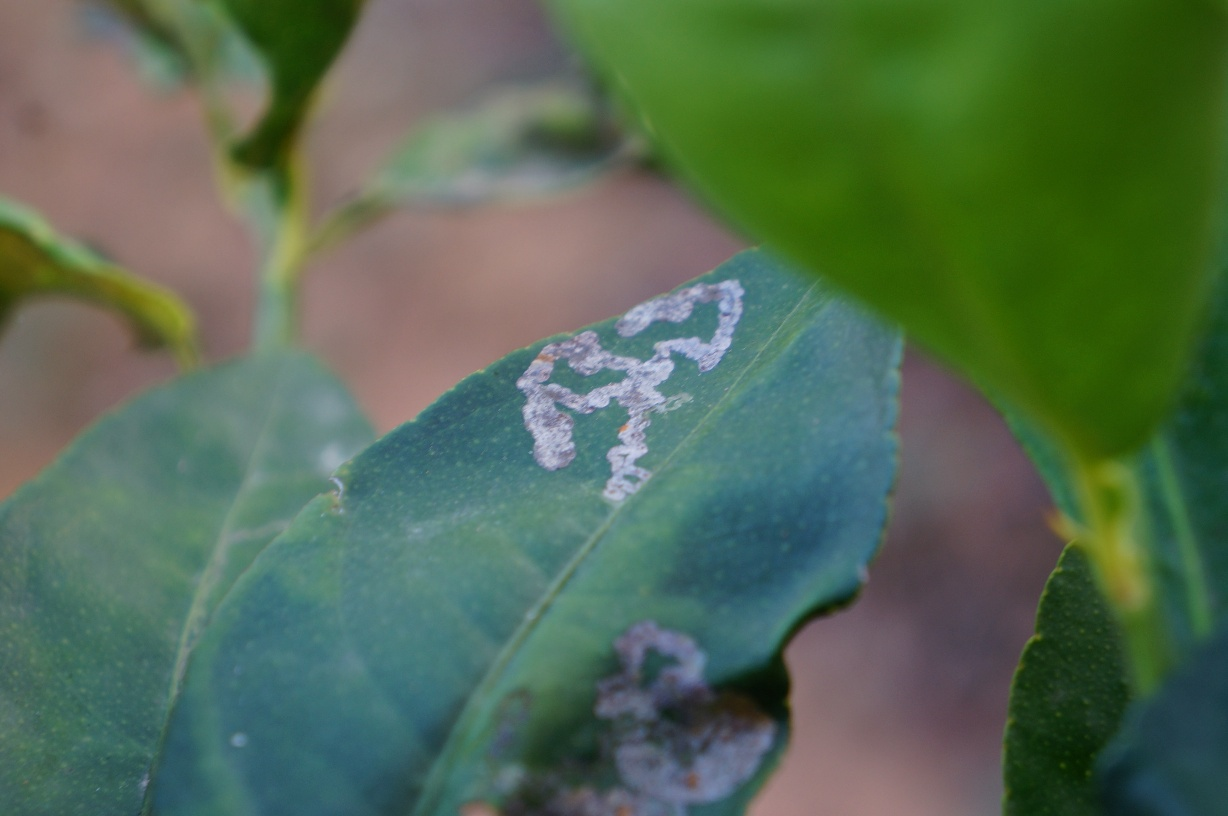damage: (507, 273, 767, 506), (486, 609, 782, 813)
